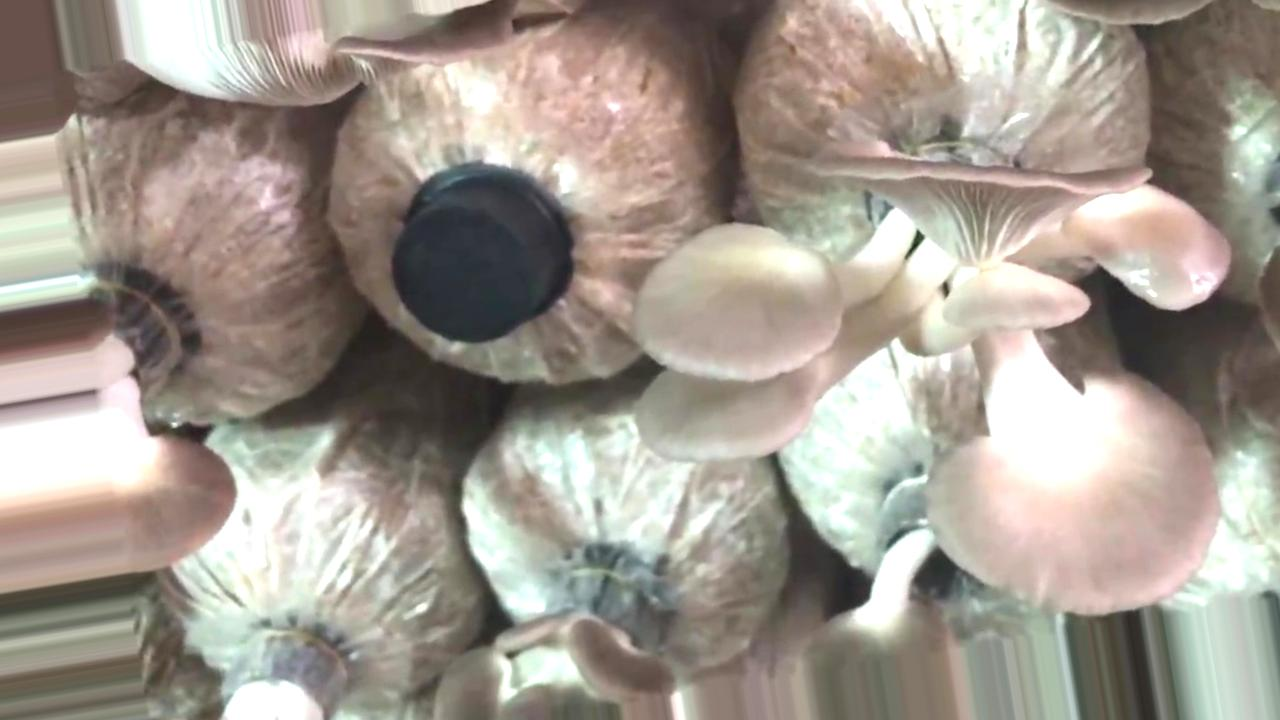nam: (627, 134, 1232, 618), (1, 264, 243, 592)
